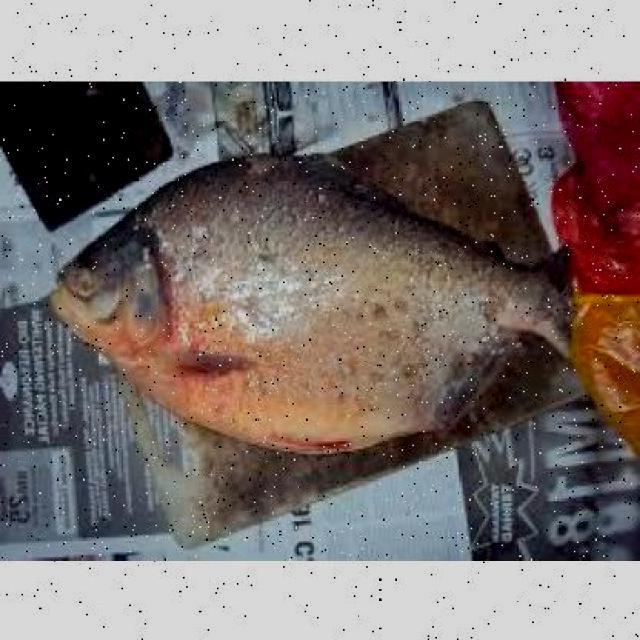ikan-pacu: (48, 134, 564, 448)
